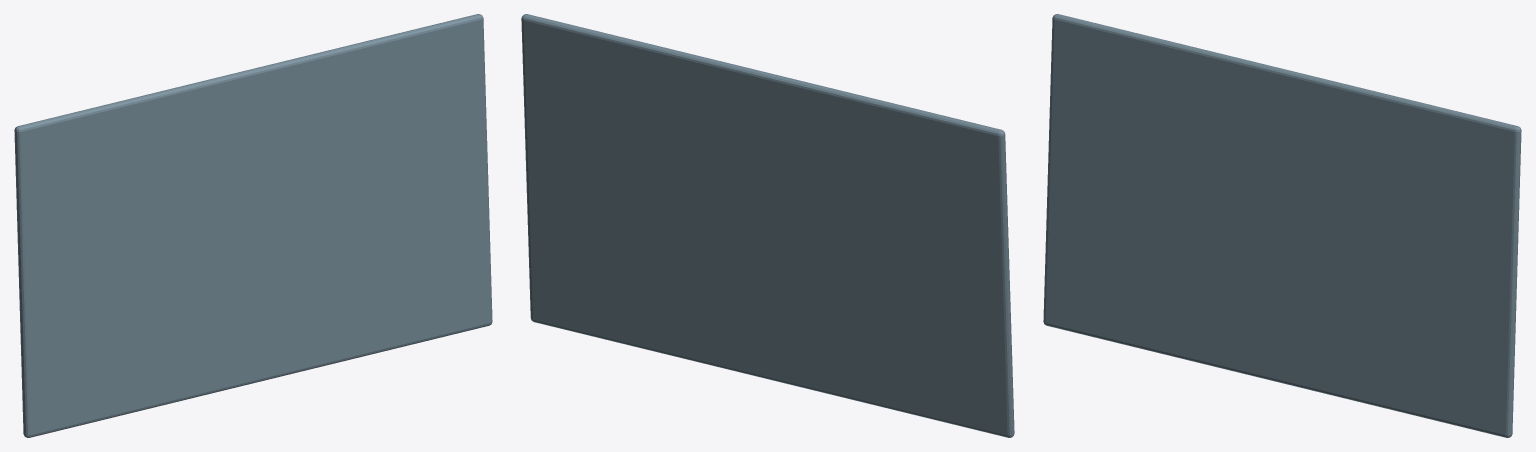
The model's file is top_panel_link.obj.
The picture shows the model from 3 angles, left to right: view 1: azimuth 30°, elevation 25°; view 2: azimuth 150°, elevation 25°; view 3: azimuth 330°, elevation 25°; orthographic projection. The views are drawn at different scales.
Parts seen in each view (by area): view 1: hinged_top_panel; view 2: hinged_top_panel; view 3: hinged_top_panel.
Part boxes in pixels (bbox=[...]): hinged_top_panel: bbox=[14, 14, 492, 437]; hinged_top_panel: bbox=[521, 14, 1014, 437]; hinged_top_panel: bbox=[1043, 14, 1521, 437].
Bounding box in the file's own units: 2.6 × 1.62 × 0.1318.
